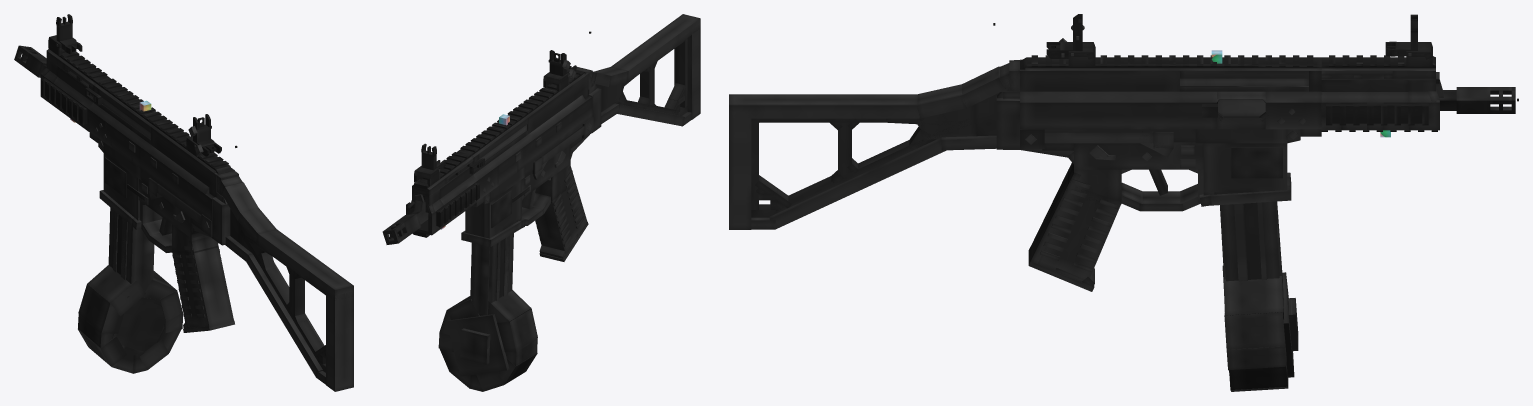
Rendered from a2_apc9.geo.fbx.
3 views of the same model, side by side, from view 1: azimuth 30°, elevation 25°; view 2: azimuth 150°, elevation 25°; view 3: azimuth 270°, elevation 25° (orthographic). The views are drawn at different scales.
Parts seen in each view (by area): view 1: gun, stock, bone10, pgrip, handguard, bone18, magazine4, magazine1, stockadapter, muzzledef, bone22, sightrear (+3 smaller); view 2: gun, stock, bone18, handguard, pgrip, bone19, magazine3, magazine1, muzzledef, bone16, bone, stockadapter (+7 smaller); view 3: gun, stock, handguard, bone18, pgrip, magazine3, magazine1, bone10, muzzledef, bone17, stockadapter, bone23 (+1 smaller).
Part boxes in pixels (x1,y1,x2,y2): gun: [88, 77, 234, 262]; stock: [214, 170, 353, 391]; bone10: [78, 280, 182, 373]; pgrip: [172, 237, 234, 327]; handguard: [40, 49, 109, 131]; bone18: [78, 265, 176, 373]; magazine4: [114, 213, 154, 291]; magazine1: [108, 207, 132, 283]; stockadapter: [212, 176, 230, 245]; muzzledef: [14, 45, 46, 77]; bone22: [85, 87, 150, 139]; sightrear: [188, 114, 211, 143]; gun: [458, 70, 593, 246]; stock: [576, 14, 700, 126]; bone18: [438, 290, 537, 391]; handguard: [406, 151, 479, 237]; pgrip: [535, 166, 587, 253]; bone19: [472, 243, 489, 315]; magazine3: [470, 234, 513, 302]; magazine1: [491, 235, 512, 303]; muzzledef: [382, 213, 421, 244]; bone16: [425, 168, 473, 212]; bone: [539, 221, 588, 261]; stockadapter: [588, 74, 601, 132]; gun: [1020, 55, 1322, 211]; stock: [729, 60, 1019, 229]; handguard: [1321, 55, 1443, 131]; bone18: [1222, 265, 1298, 389]; pgrip: [1030, 163, 1121, 280]; magazine3: [1224, 201, 1279, 281]; magazine1: [1221, 201, 1279, 281]; bone10: [1225, 312, 1298, 391]; muzzledef: [1456, 87, 1515, 113]; bone17: [1321, 80, 1435, 91]; stockadapter: [996, 60, 1021, 149]; bone23: [1180, 78, 1308, 85].
Size of the model in its own units: 68.36 by 241 by 467.
Materials: 1 (1 with a texture image).
